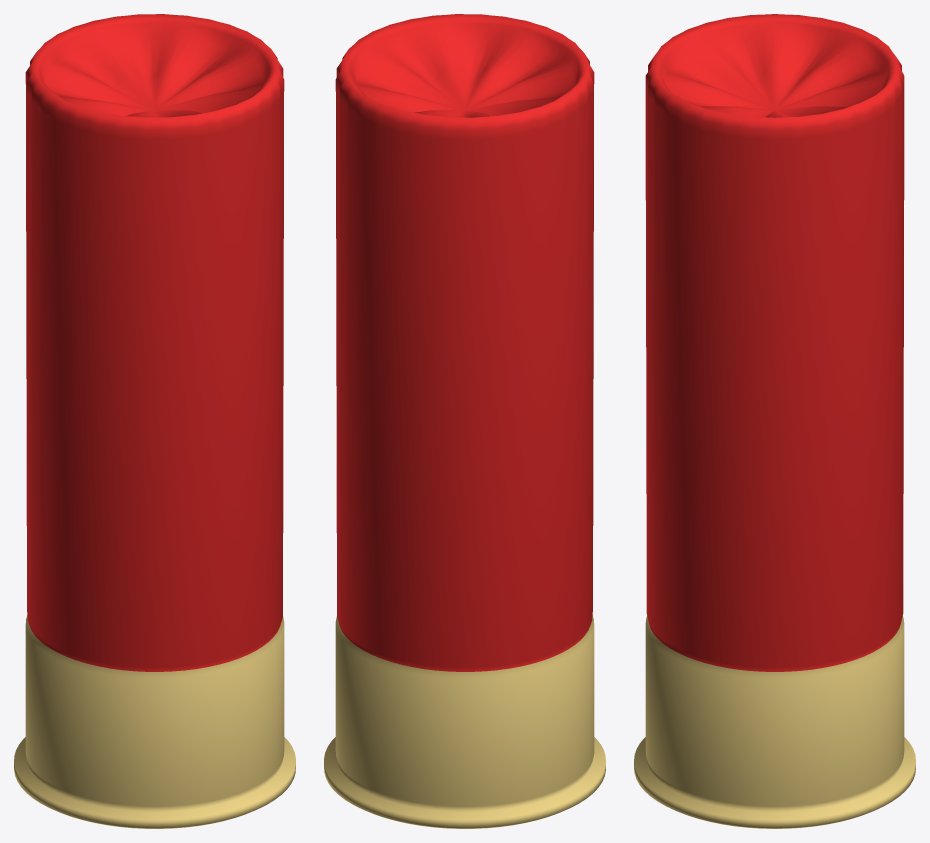
Rendered from shotgun3.glb.
3 views of the same model, side by side, from view 1: azimuth 30°, elevation 25°; view 2: azimuth 150°, elevation 25°; view 3: azimuth 270°, elevation 25° (orthographic).
Parts seen in each view (by area): view 1: Shotgun_Shell_Side; view 2: Shotgun_Shell_Side; view 3: Shotgun_Shell_Side.
Boxes of the visible parts, x1,y1,x2,y2 form: Shotgun_Shell_Side: [14, 14, 295, 828]; Shotgun_Shell_Side: [324, 14, 605, 828]; Shotgun_Shell_Side: [634, 14, 915, 828].
Size of the model in its own units: 1.04 by 2.86 by 1.04.
